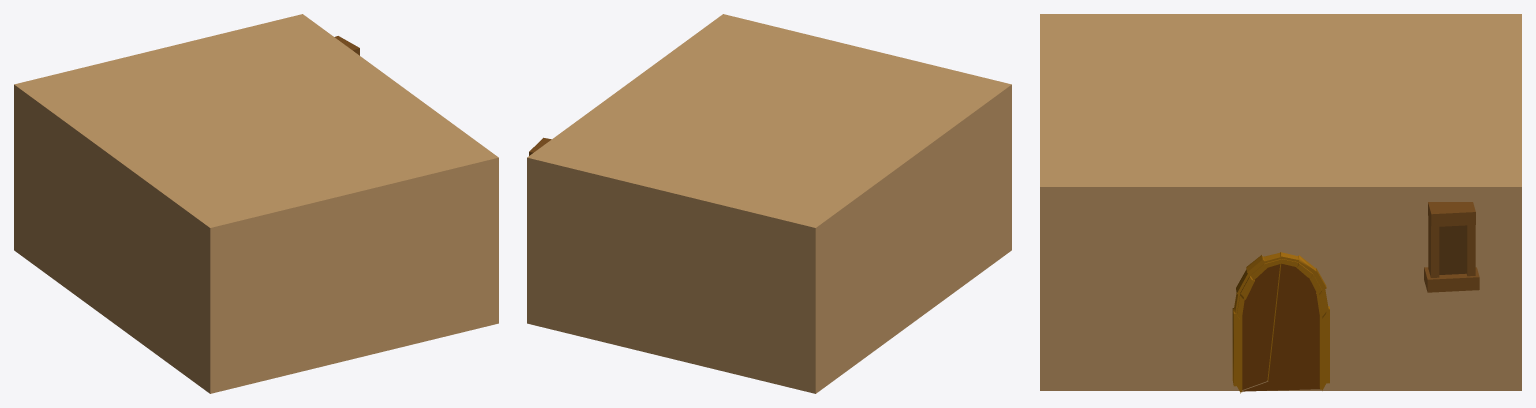
Rendered from tempcube.fbx.
The picture shows the model from 3 angles, left to right: view 1: azimuth 30°, elevation 25°; view 2: azimuth 150°, elevation 25°; view 3: azimuth 270°, elevation 25°; orthographic projection. The views are drawn at different scales.
Visible parts, largest first — view 1: Cube; view 2: Cube; view 3: Cube, Cube.444, Cube.482.
Part boxes in pixels (x1=…): Cube: x1=14, y1=14, x2=498, y2=393; Cube: x1=527, y1=14, x2=1011, y2=393; Cube: x1=1040, y1=14, x2=1521, y2=390; Cube.444: x1=1232, y1=252, x2=1329, y2=393; Cube.482: x1=1424, y1=202, x2=1479, y2=292.
Bounding box in the file's own units: 819 × 420 × 899.
